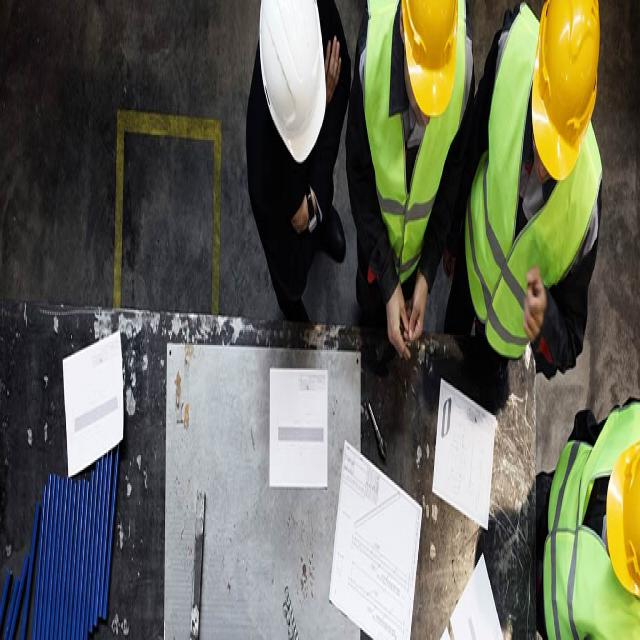Reflective-Jacket: (462, 25, 604, 350), (359, 3, 468, 300), (541, 392, 639, 638), (606, 425, 640, 602)
Safety-Helmet: (529, 0, 600, 178), (256, 0, 326, 160), (398, 0, 461, 112), (608, 425, 639, 598)
